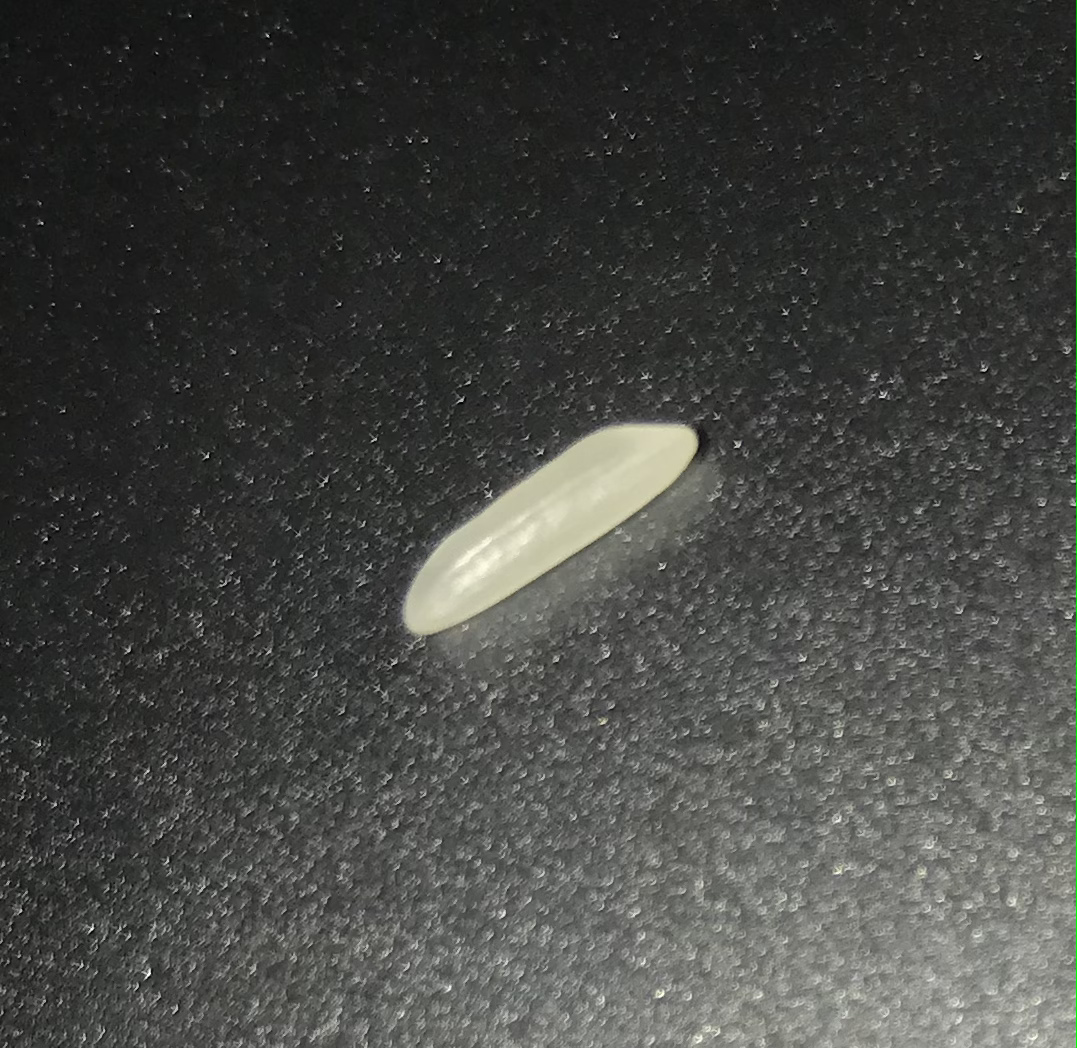Gao Thom My: (393, 371, 723, 650)
